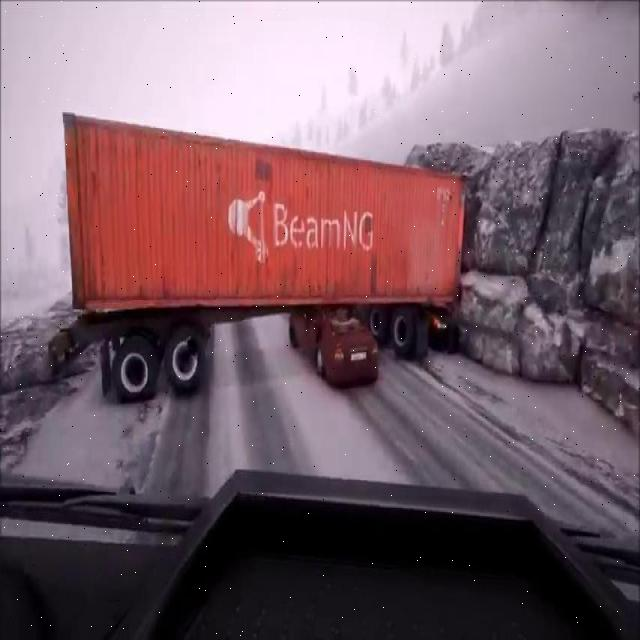severe: (58, 97, 476, 388)
